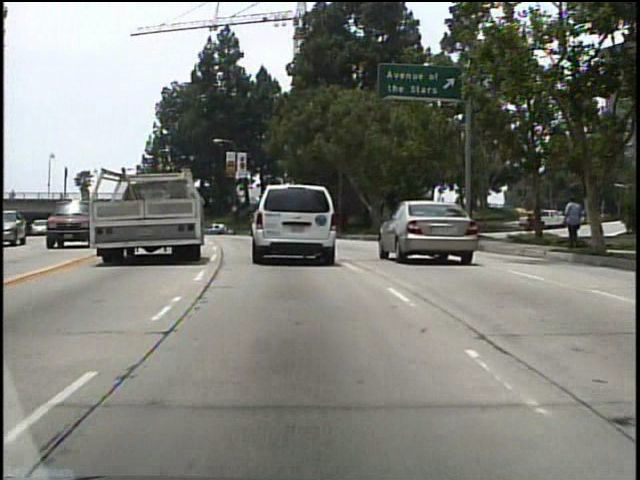person: (557, 191, 584, 255), (8, 186, 18, 205)
